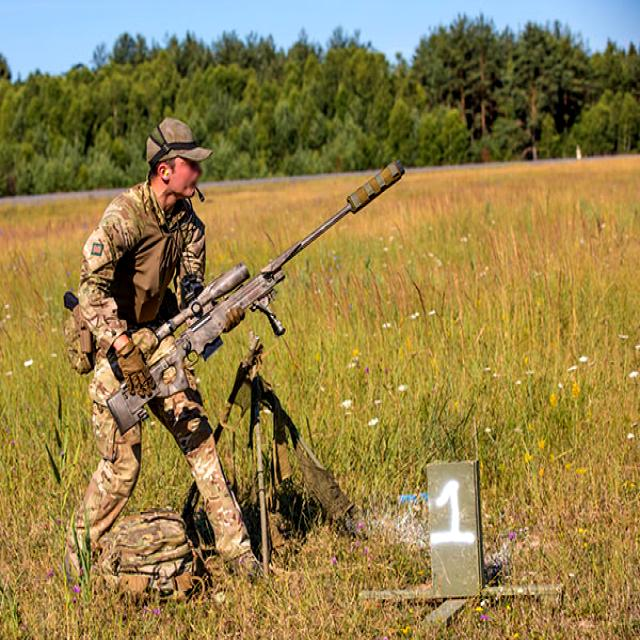rifle: (102, 150, 415, 432)
